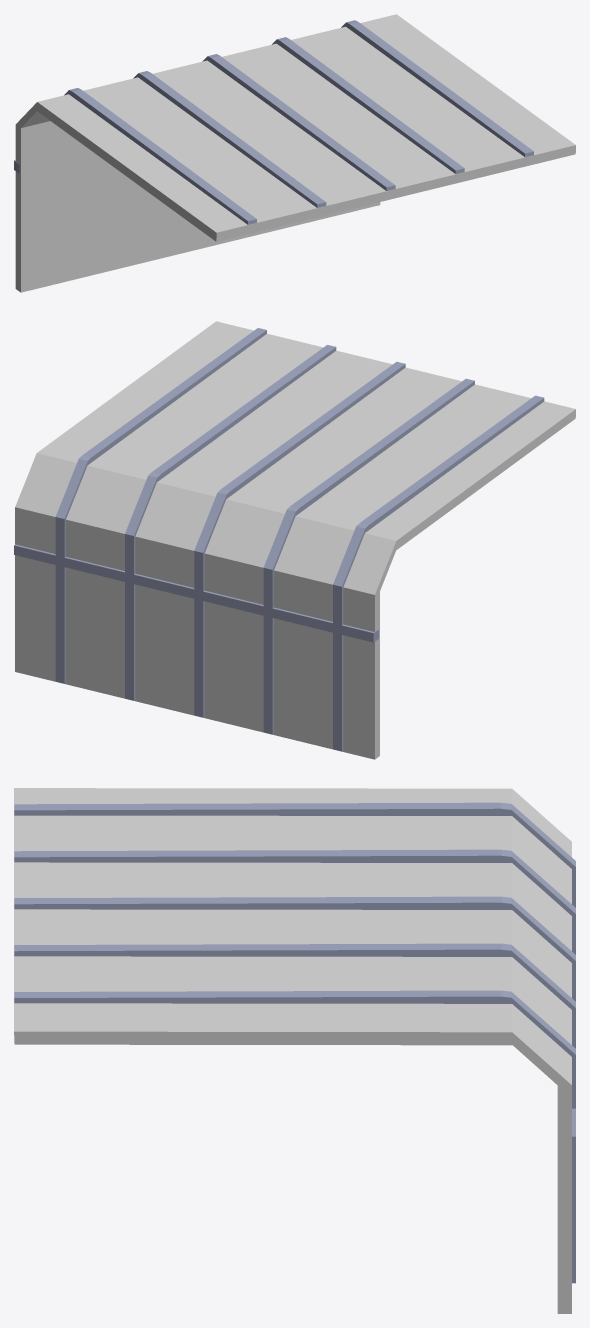
Rendered from WallTop.fbx.
3 views of the same model, one above another, from view 1: azimuth 30°, elevation 25°; view 2: azimuth 150°, elevation 25°; view 3: azimuth 270°, elevation 25° (orthographic). The views are drawn at different scales.
Parts seen in each view (by area): view 1: 立方体.001; view 2: 立方体.001; view 3: 立方体.001.
Boxes of the visible parts, left/top/right/bottom form: 立方体.001: left=14, top=14, right=575, bottom=292; 立方体.001: left=14, top=321, right=575, bottom=759; 立方体.001: left=14, top=788, right=575, bottom=1313.
Bounding box in the file's own units: 801 × 443 × 780.
